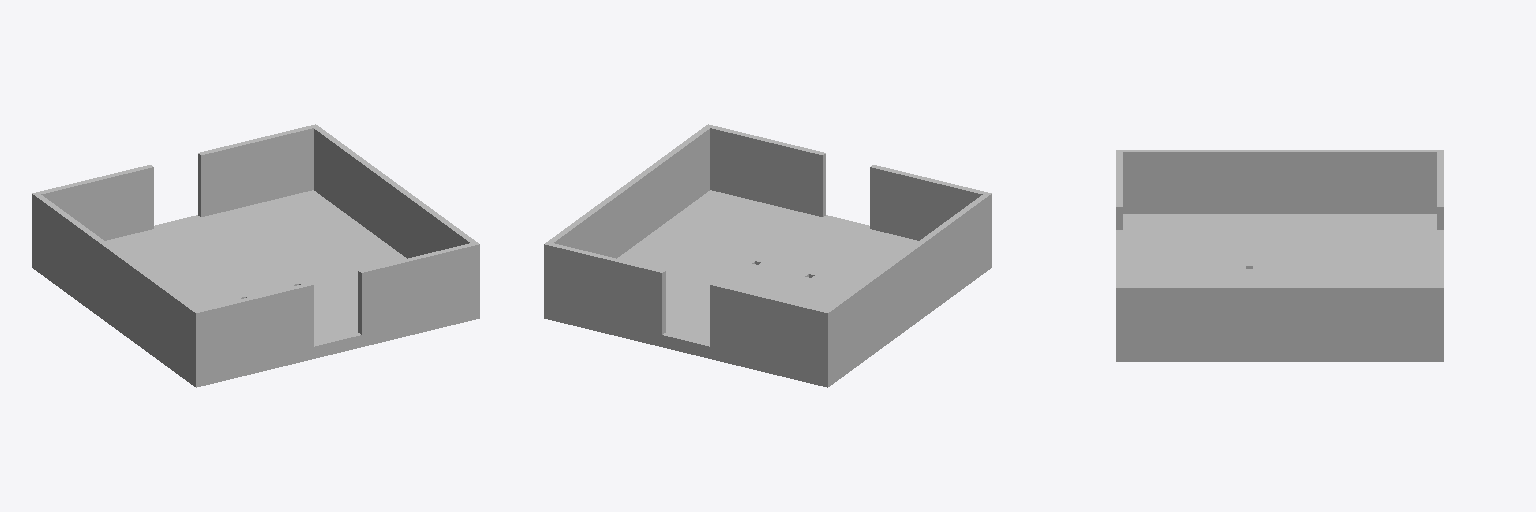
File: Open_Two_Way_ Room-00.obj
3 renders of one model, left to right at view 1: azimuth 30°, elevation 25°; view 2: azimuth 150°, elevation 25°; view 3: azimuth 270°, elevation 25°, orthographic.
Bounding box in the file's own units: 48 × 12 × 48.